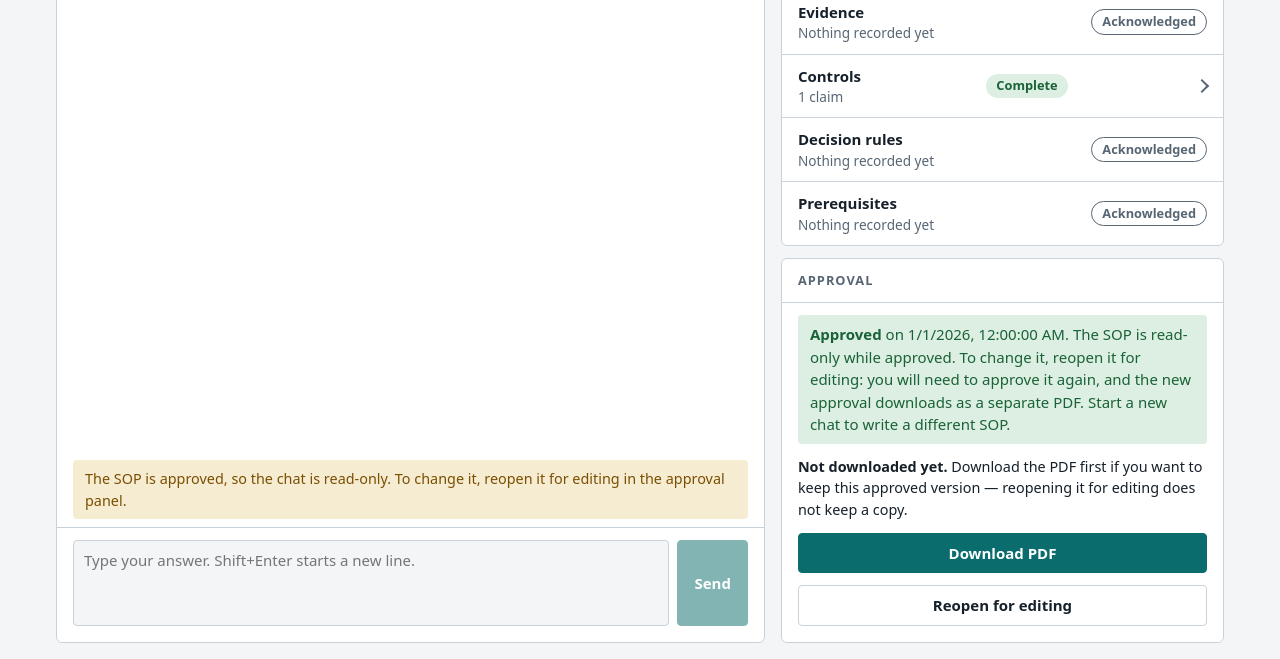
Test: reopening an approved SOP › is disabled while a download is in flight, so it cannot race markSopDownloaded
(page scrolled)
Click the button "Download PDF": (1002, 553) [798,533,1207,573]
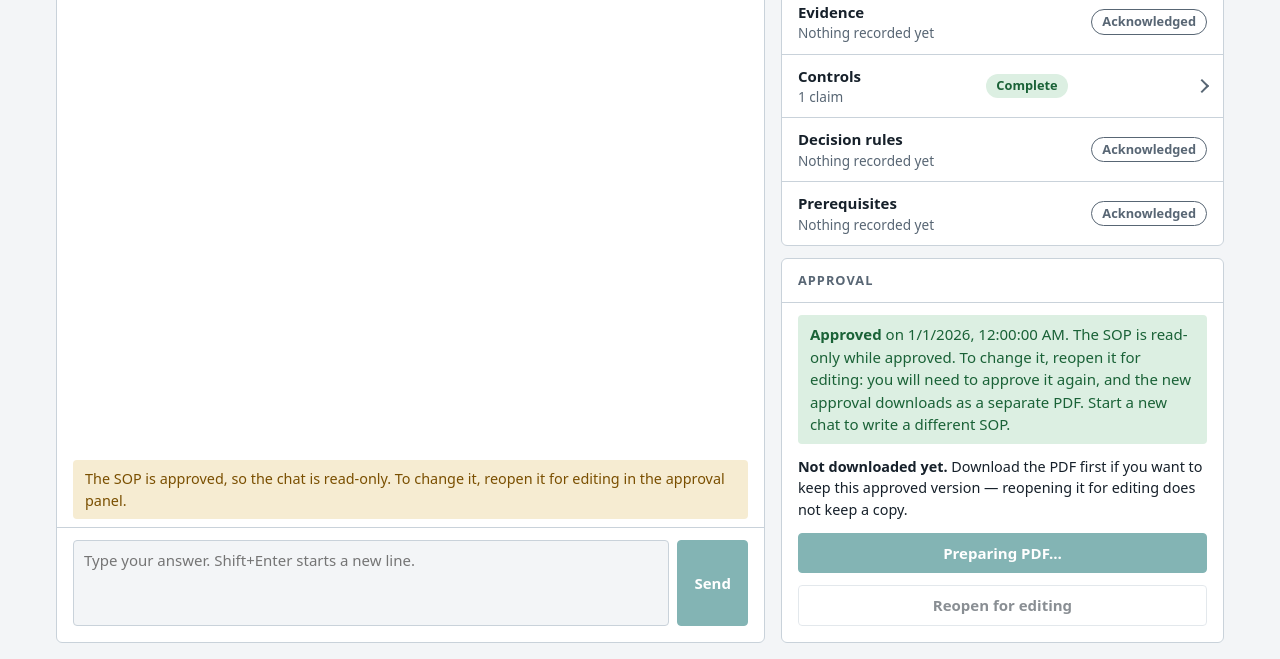
Check: the button "Reopen for editing" is disabled
Click the button "Reopen for editing": (1002, 605) [798,585,1207,626]
(page scrolled)
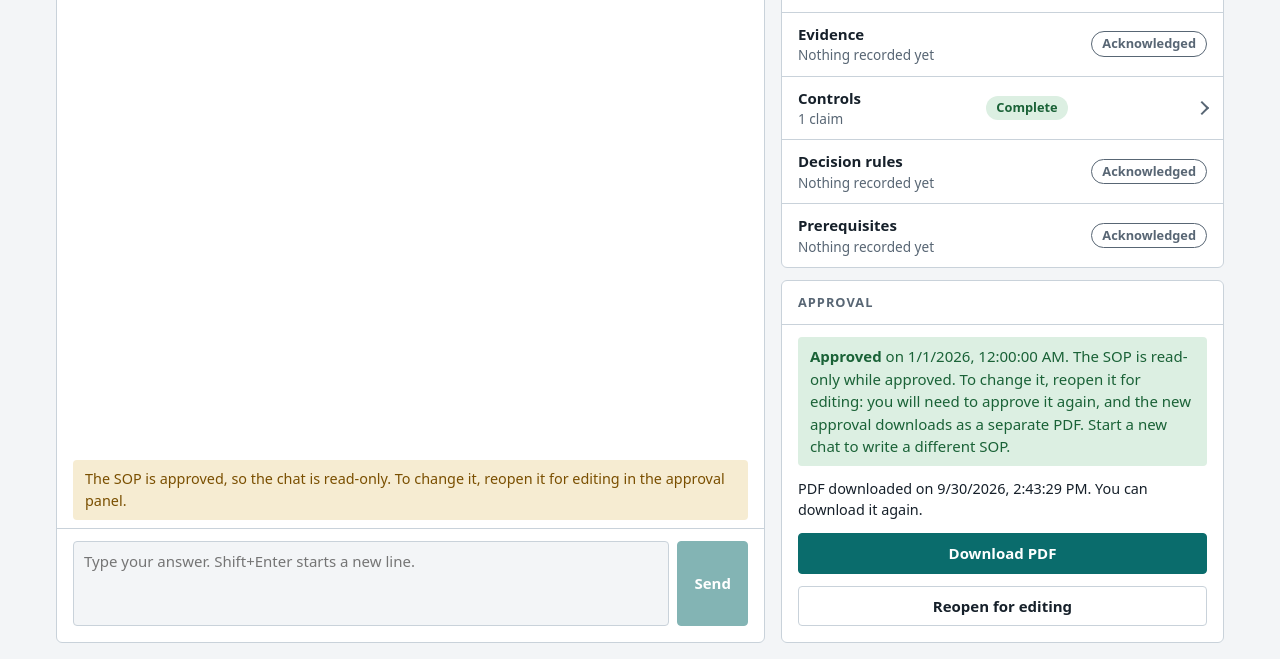
Check: the button "Reopen for editing" is enabled, box [798,586,1207,626]
